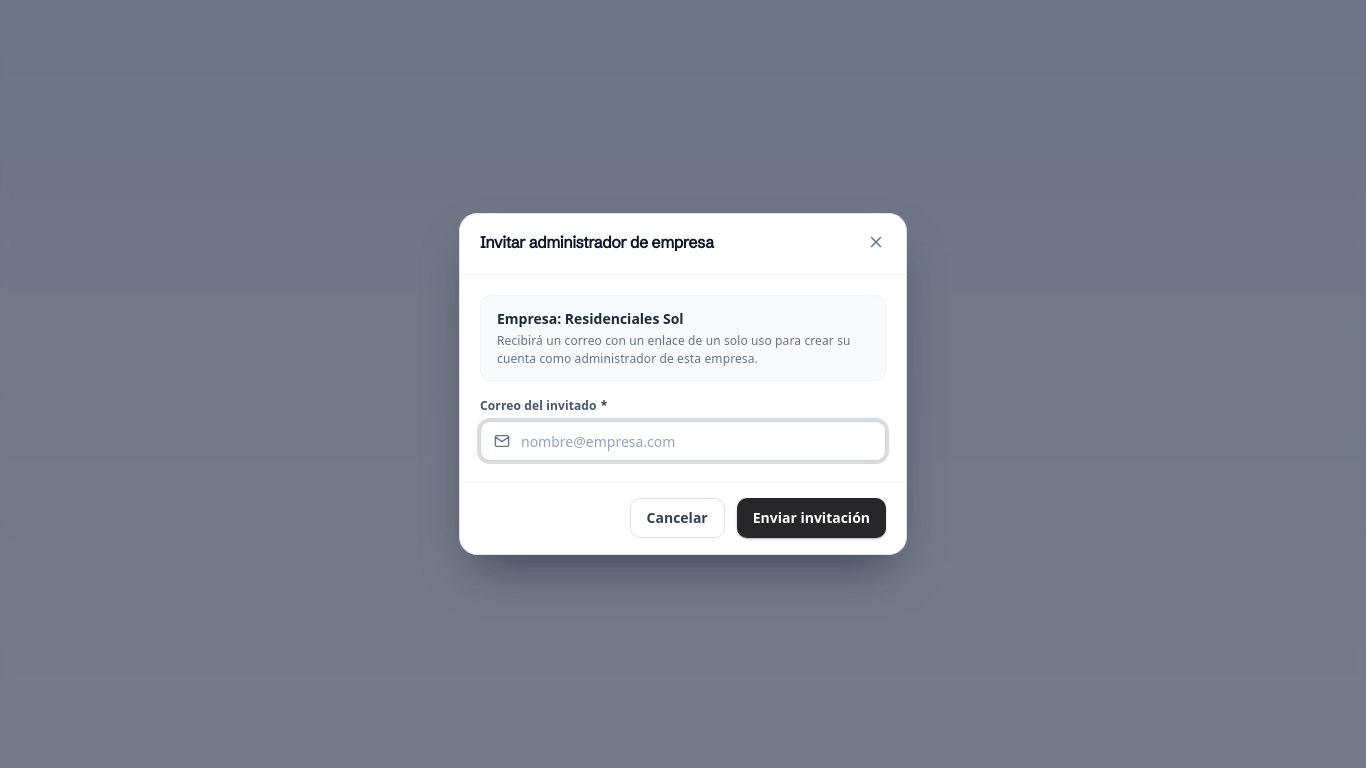
Scenario: InvitarAdminModal — alcance ya decidido › con empresa fija muestra su nombre, no pide elegir empresa y manda empresa_id
Expected: the text "Empresa: Residenciales Sol" is shown, [497,309,684,328]
Step 1. Type "ana@sol.com" into the field labelled "Correo del invitado*" → (683, 441), box [480,421,886,461]
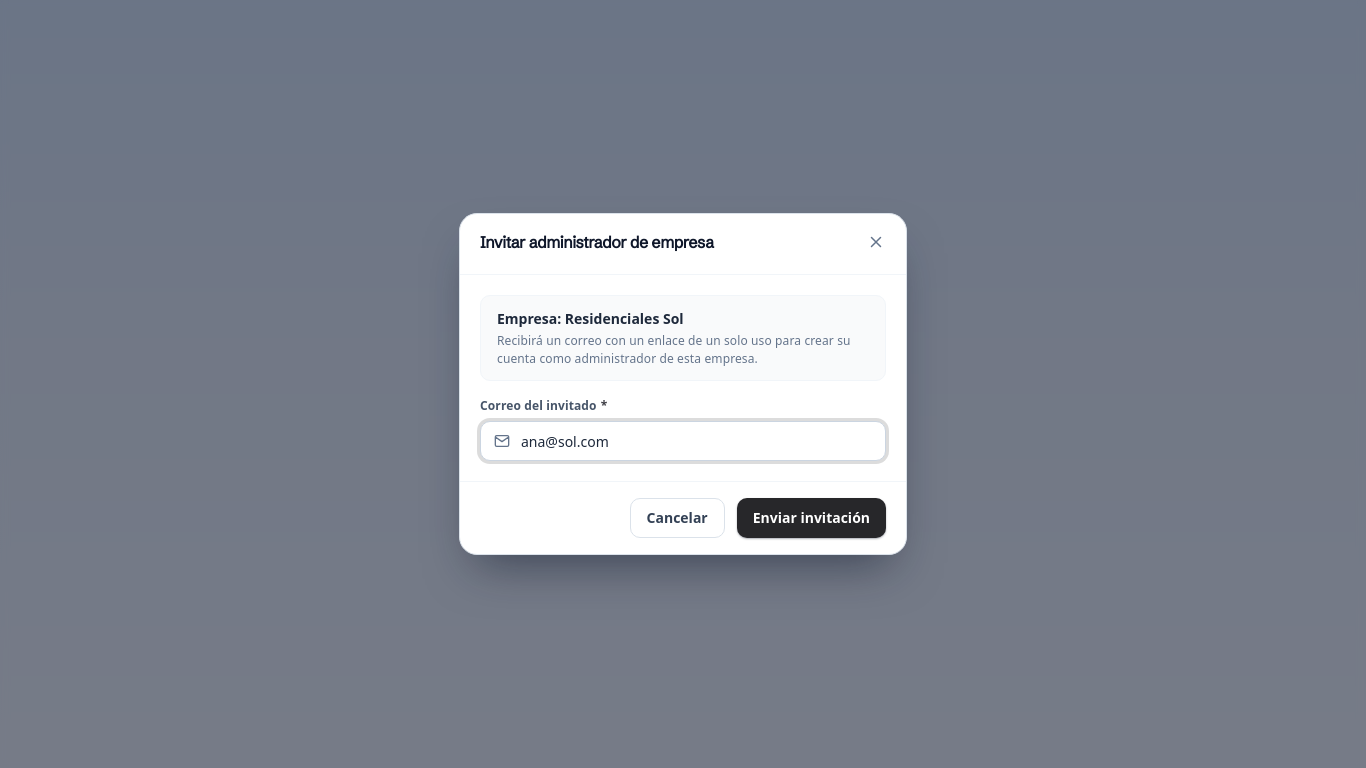
Step 2. Click the button "Enviar invitación" → (811, 518), box [737,498,886,538]
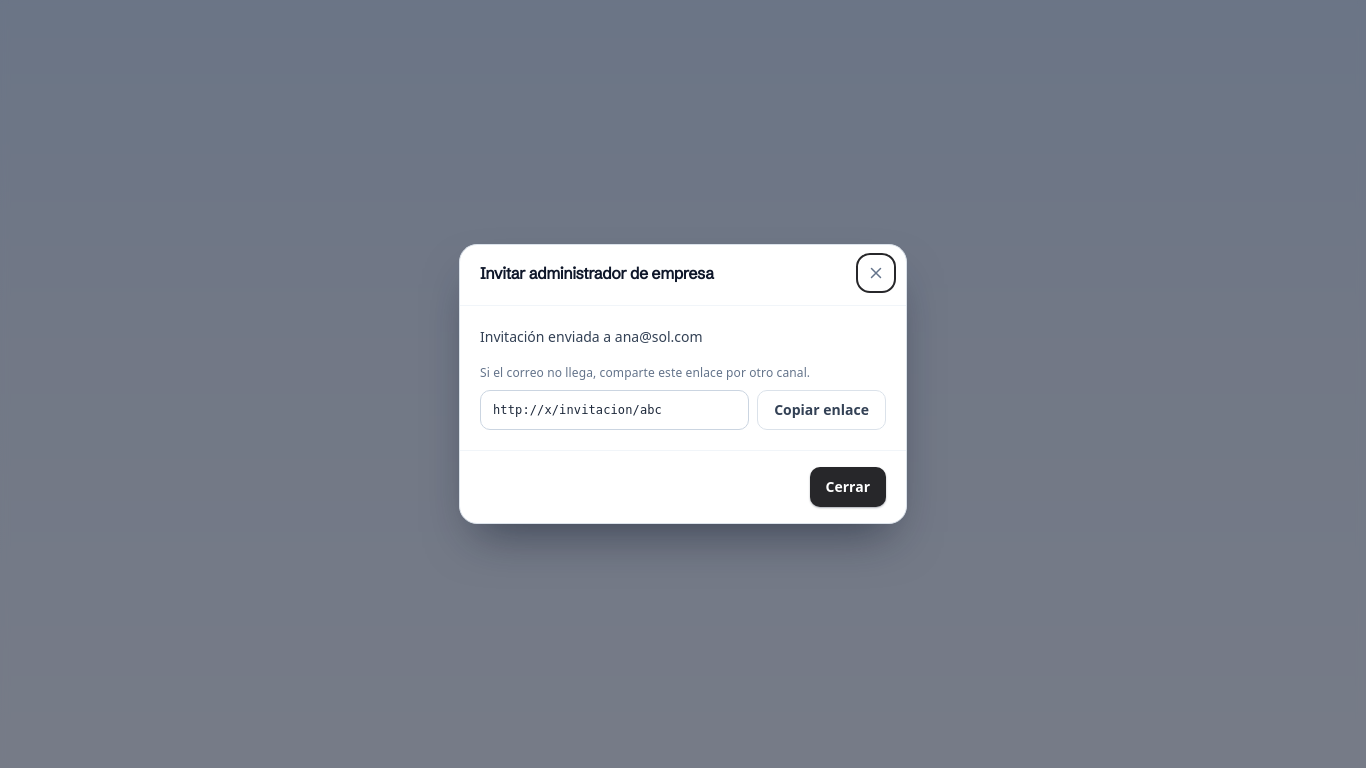
Expected: the field showing "http://x/invitacion/abc" is shown, [480,390,749,430]
